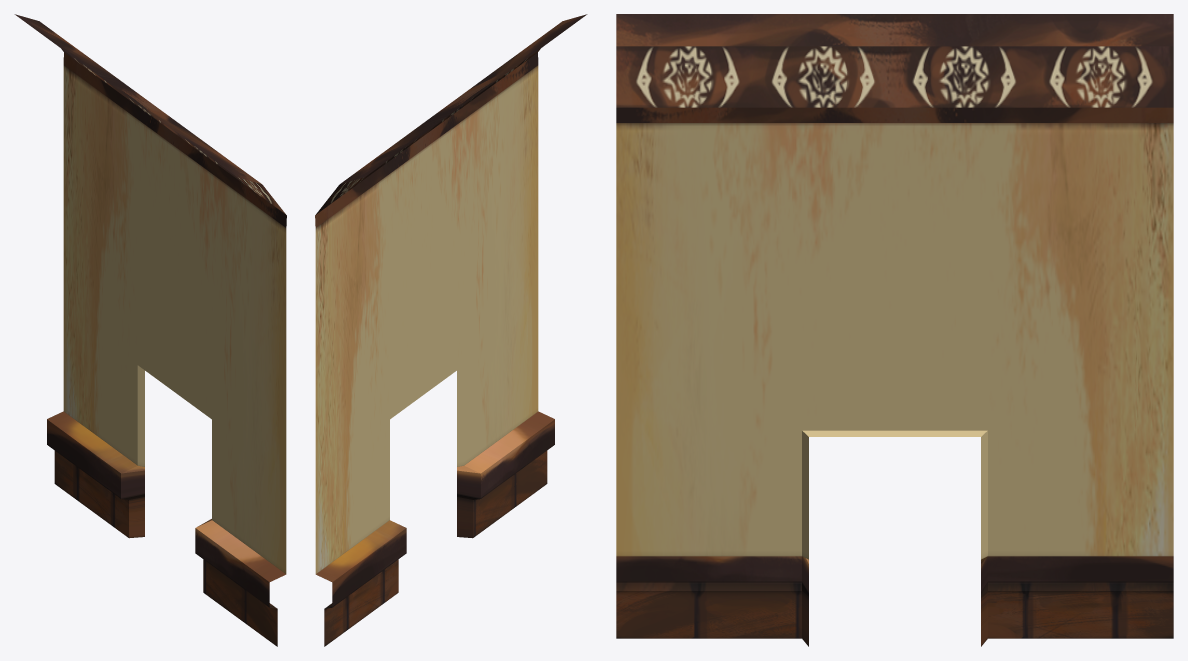
File: стіна з дверима.fbx
3 views of the same model, side by side, from view 1: azimuth 30°, elevation 25°; view 2: azimuth 150°, elevation 25°; view 3: azimuth 270°, elevation 25° (orthographic). The views are drawn at different scales.
Visible parts, largest first — view 1: трім.007; view 2: трім.007; view 3: трім.007.
Boxes of the visible parts, <box> form: трім.007: <box>14,14,286,646</box>; трім.007: <box>315,14,587,646</box>; трім.007: <box>616,14,1173,646</box>.
Bounding box in the file's own units: 32.62 × 277 × 233.
